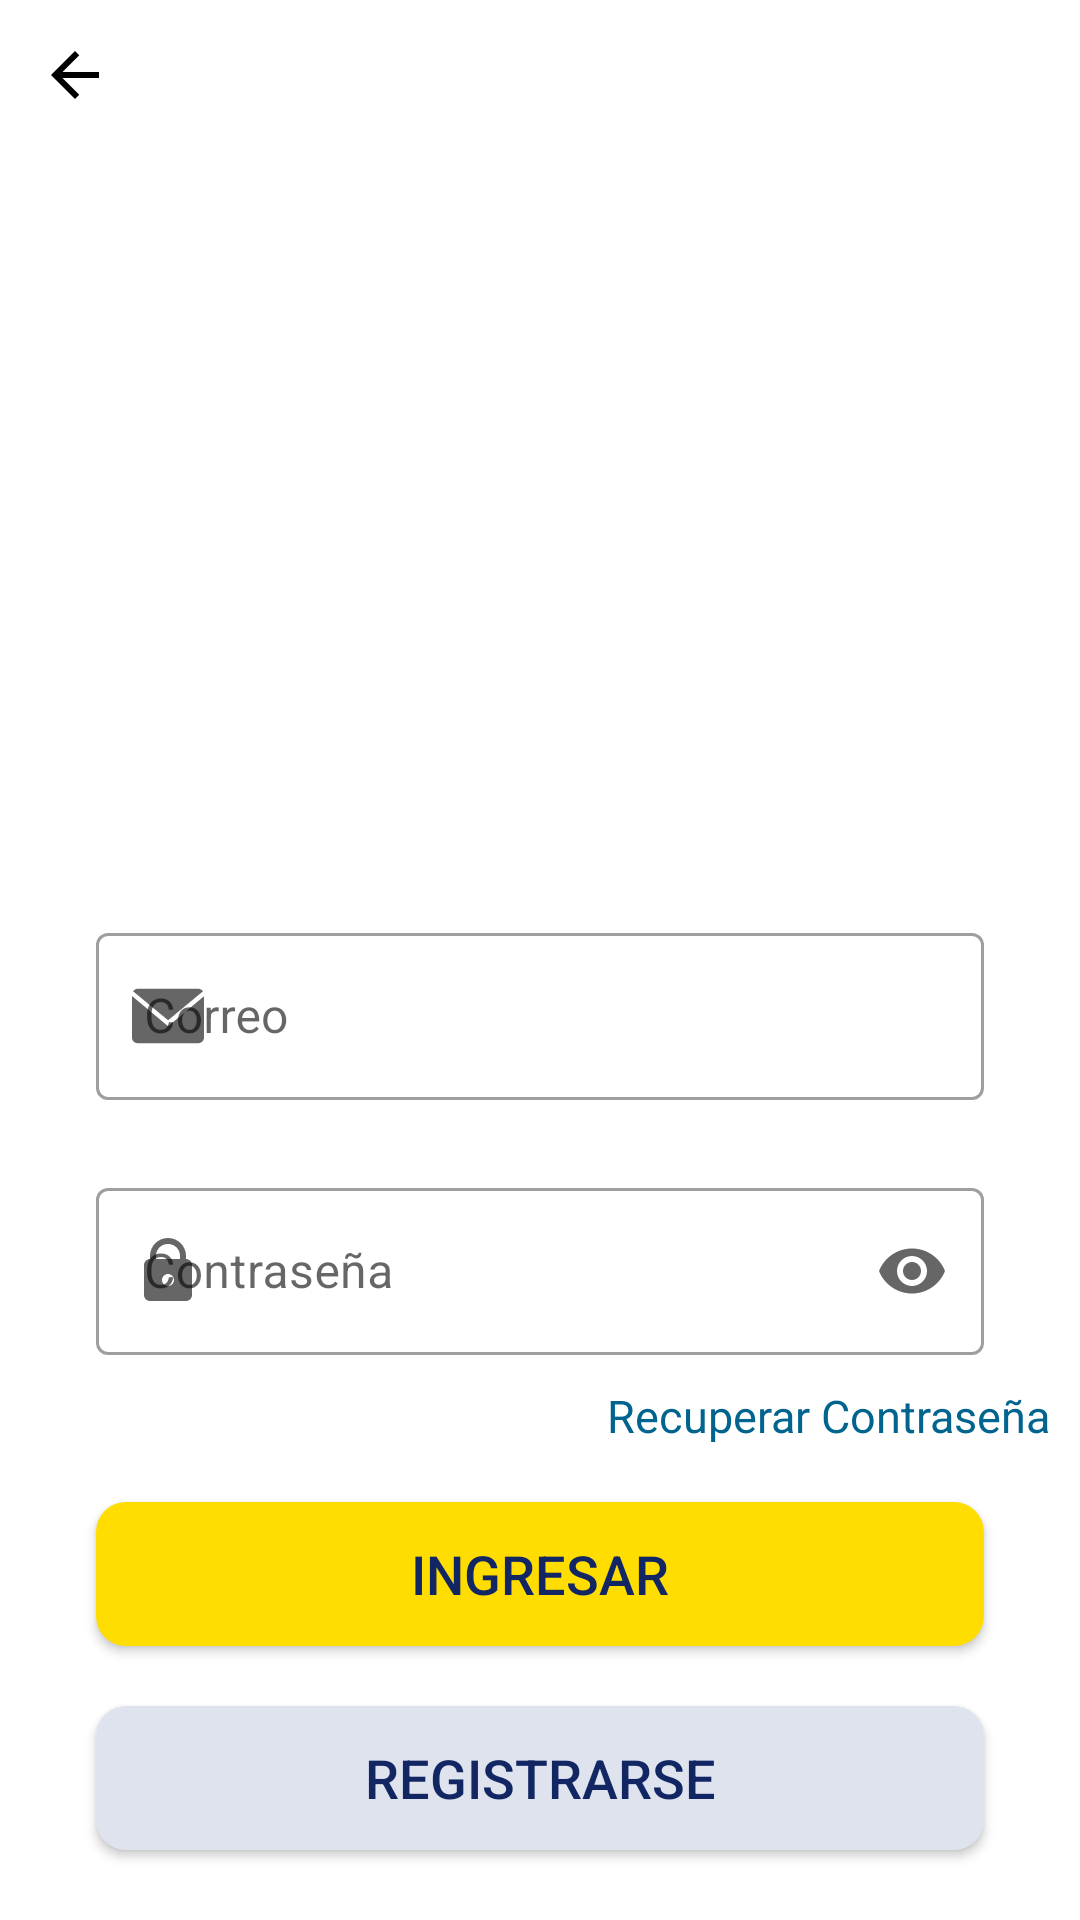

Where to tap for icons on this 1080px x 1920px app screen, as (x=x, y=y):
Atrás: (x=75, y=75)
